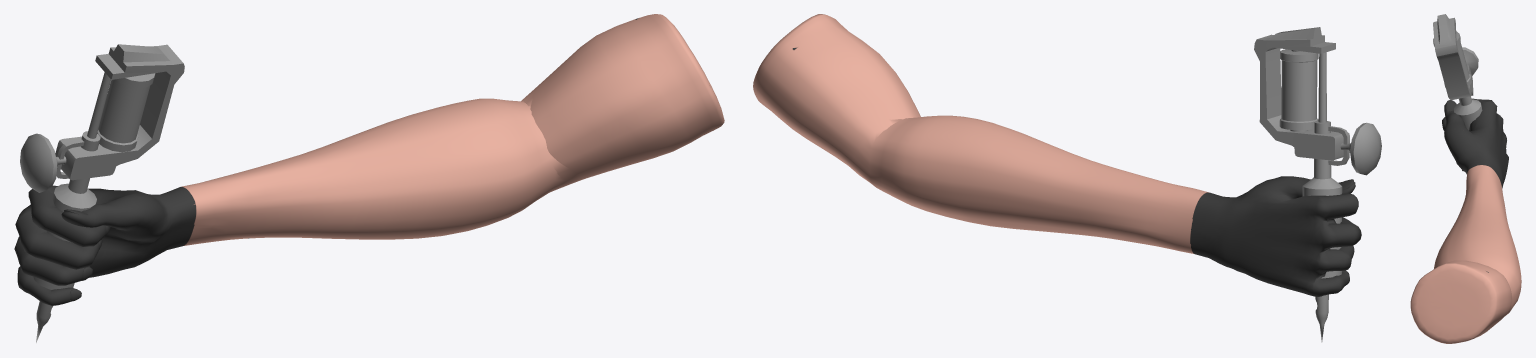
File: npc_Tatgun02.fbx
3 renders of one model, left to right at view 1: azimuth 30°, elevation 25°; view 2: azimuth 150°, elevation 25°; view 3: azimuth 270°, elevation 25°, orthographic. The views are drawn at different scales.
Visible parts, largest first — view 1: tatgun02; view 2: tatgun02; view 3: tatgun02.
Part boxes in pixels (x1,y1,x2,y2): tatgun02: (14,14,724,342); tatgun02: (753,14,1381,342); tatgun02: (1410,14,1521,343).
Size of the model in its own units: 414 by 183 by 90.94.
Materials: 2 (1 with a texture image).
